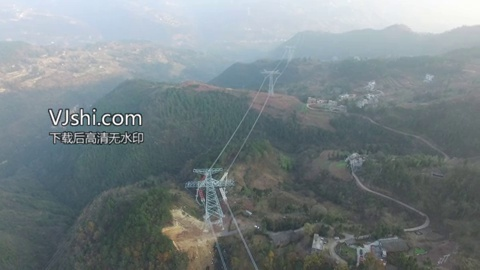tower_body: (183, 164, 232, 236), (258, 68, 282, 97)
tower_foot: (201, 207, 226, 233)
tower_head: (191, 167, 224, 176)
